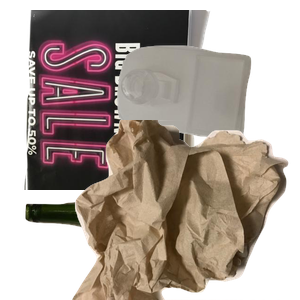glass: (23, 186, 249, 300)
paper: (22, 10, 225, 190)
plastic: (115, 43, 300, 177)
trash: (70, 120, 300, 300)
